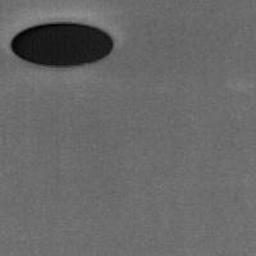Punching: (12, 23, 113, 68)
